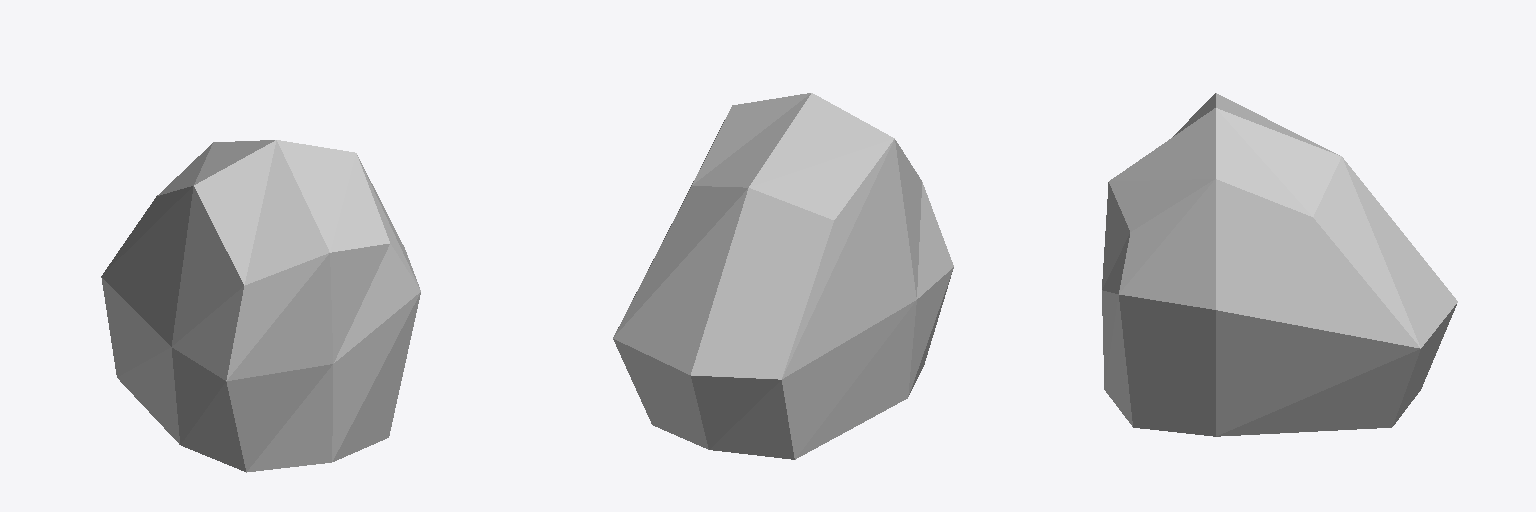
Rendered from SmallRock.obj.
The picture shows the model from 3 angles: view 1: azimuth 30°, elevation 25°; view 2: azimuth 150°, elevation 25°; view 3: azimuth 270°, elevation 25°; orthographic projection.
Visible parts, largest first — view 1: SmallRock; view 2: SmallRock; view 3: SmallRock.
Boxes of the visible parts, <box> form: SmallRock: <box>101,140,420,472</box>; SmallRock: <box>613,93,953,459</box>; SmallRock: <box>1102,93,1457,436</box>.
Bounding box in the file's own units: 0.9093 × 1.06 × 1.2.